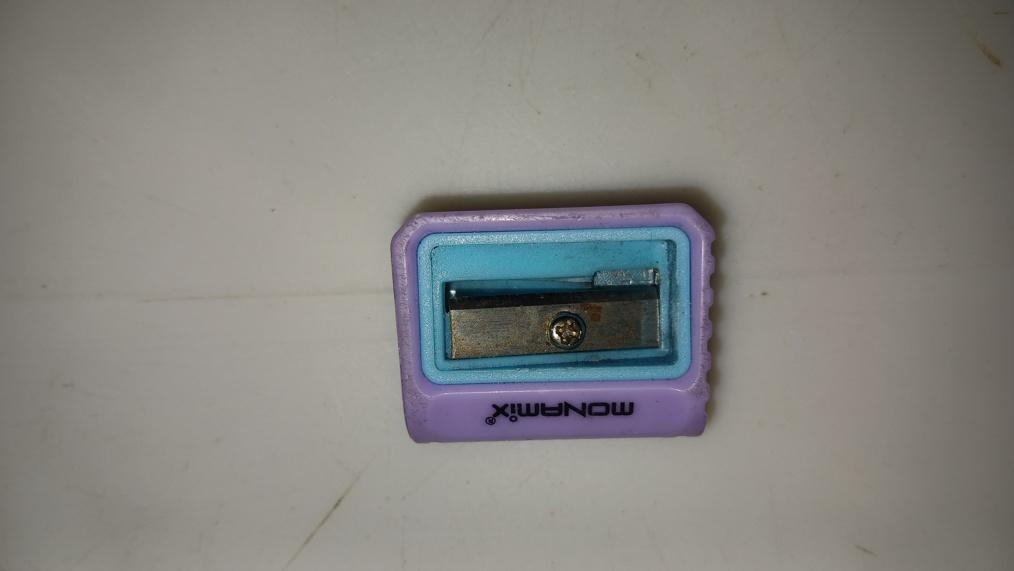Sharpener: (390, 200, 718, 446)
